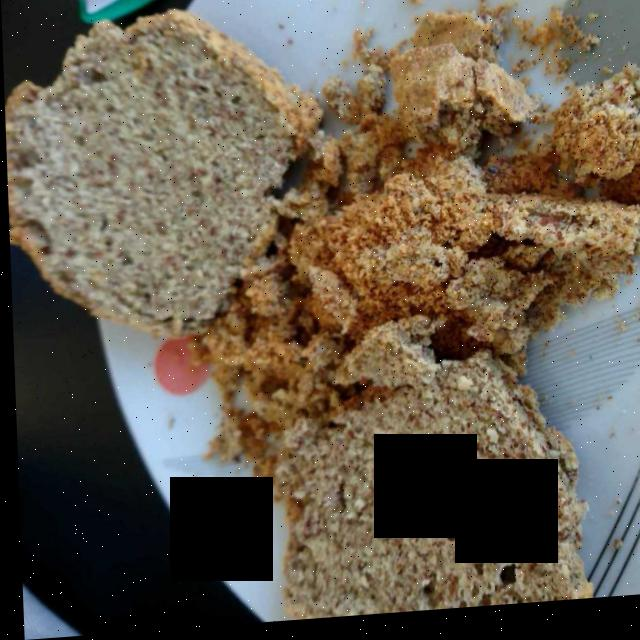gluten-free-bread: (17, 33, 631, 612)
